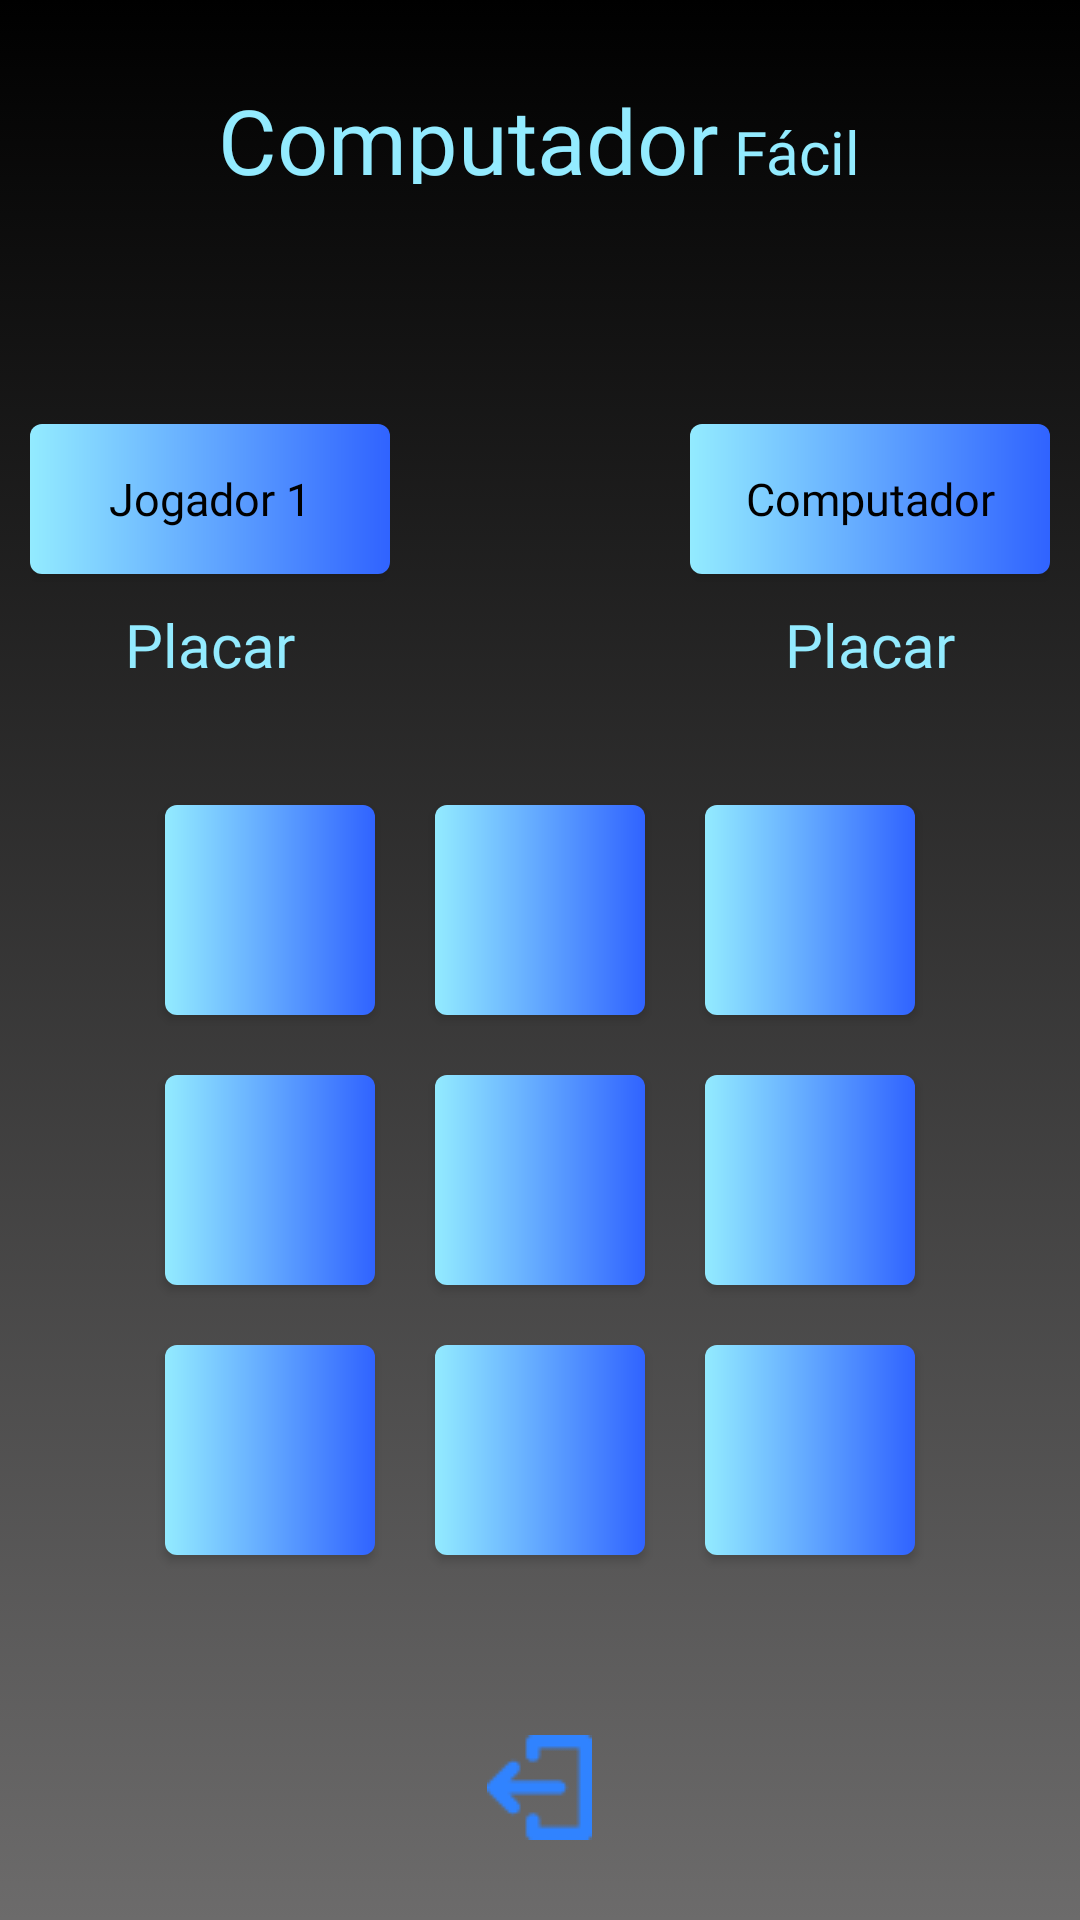

Locate icon controls on the screen. Image size 1080*1920, boxes as bbox(x1, y1, x2, y2).
sairicone: bbox(487, 1735, 592, 1840)
